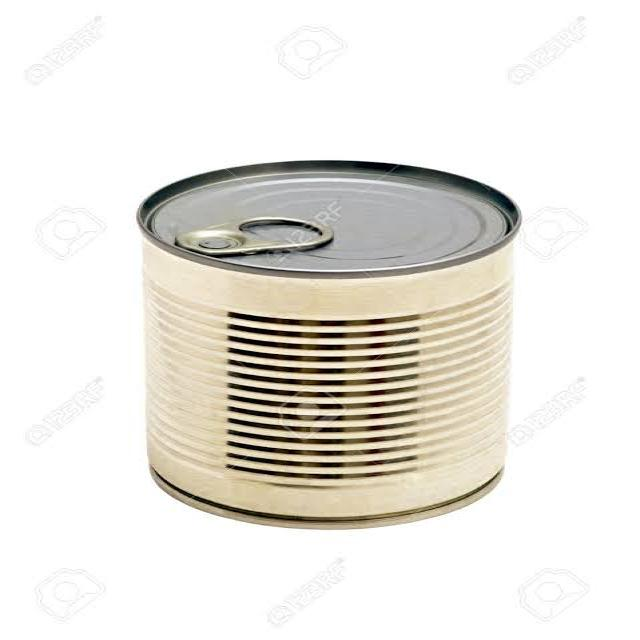can: (130, 127, 564, 548)
